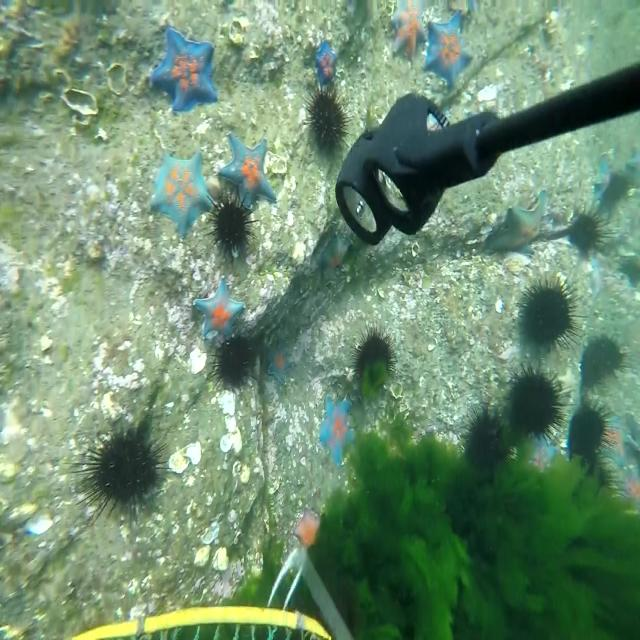echinus: (66, 418, 171, 530), (504, 362, 568, 446), (516, 271, 580, 354), (200, 182, 253, 258), (568, 396, 613, 479), (298, 80, 350, 150), (209, 331, 258, 396), (350, 323, 398, 389), (464, 400, 504, 479), (581, 333, 630, 391), (562, 206, 602, 263)
starfish: (142, 24, 220, 116), (146, 141, 208, 238), (188, 273, 248, 350), (218, 134, 278, 208), (486, 192, 546, 259), (428, 13, 473, 90), (317, 386, 356, 466), (515, 432, 556, 497), (389, 0, 427, 63), (598, 410, 634, 471), (614, 453, 640, 521), (288, 505, 324, 547), (311, 40, 338, 91), (266, 343, 294, 385), (319, 230, 346, 272), (595, 156, 616, 194), (625, 143, 640, 183)
